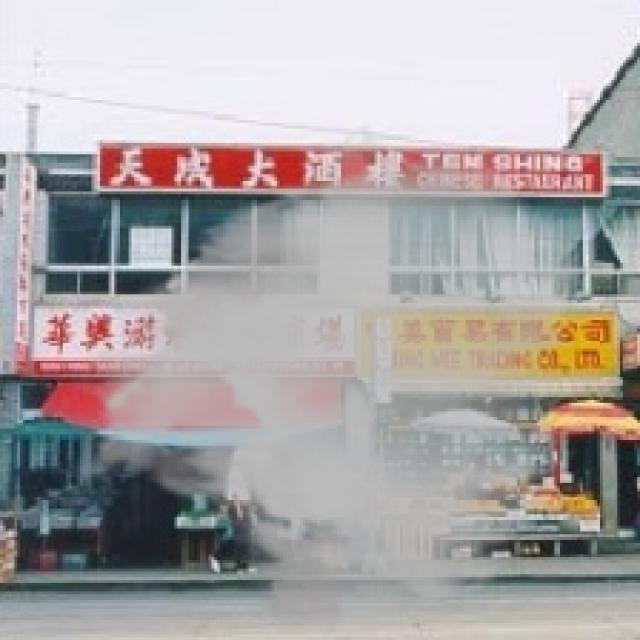smoke: (66, 123, 594, 637)
